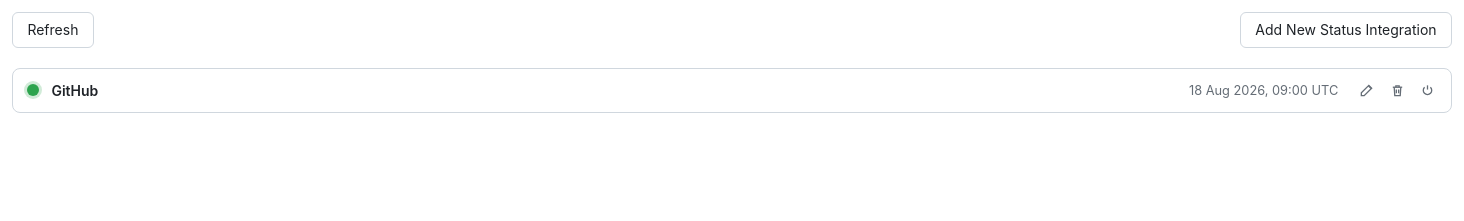
it: OverviewPage › survives a failing incident request with the card still open
The width and height of the screenshot is (1464, 221).
Click the button with class "system-card__row" at point(75, 90), box [13,69,1353,112]
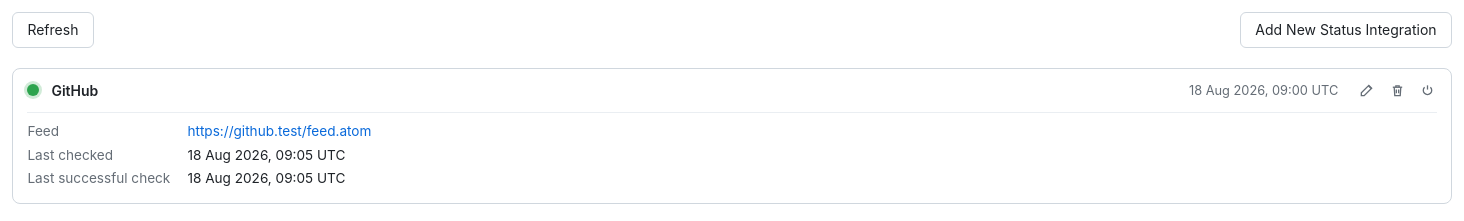
Expected: the element with class "system-card__detail" is shown, [13,112,1451,203]
